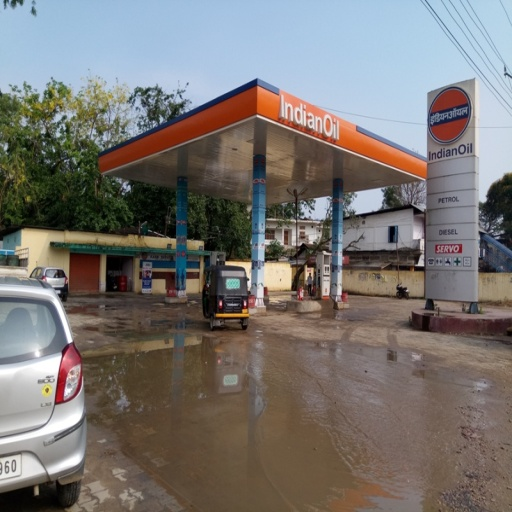roof: (97, 80, 434, 211)
